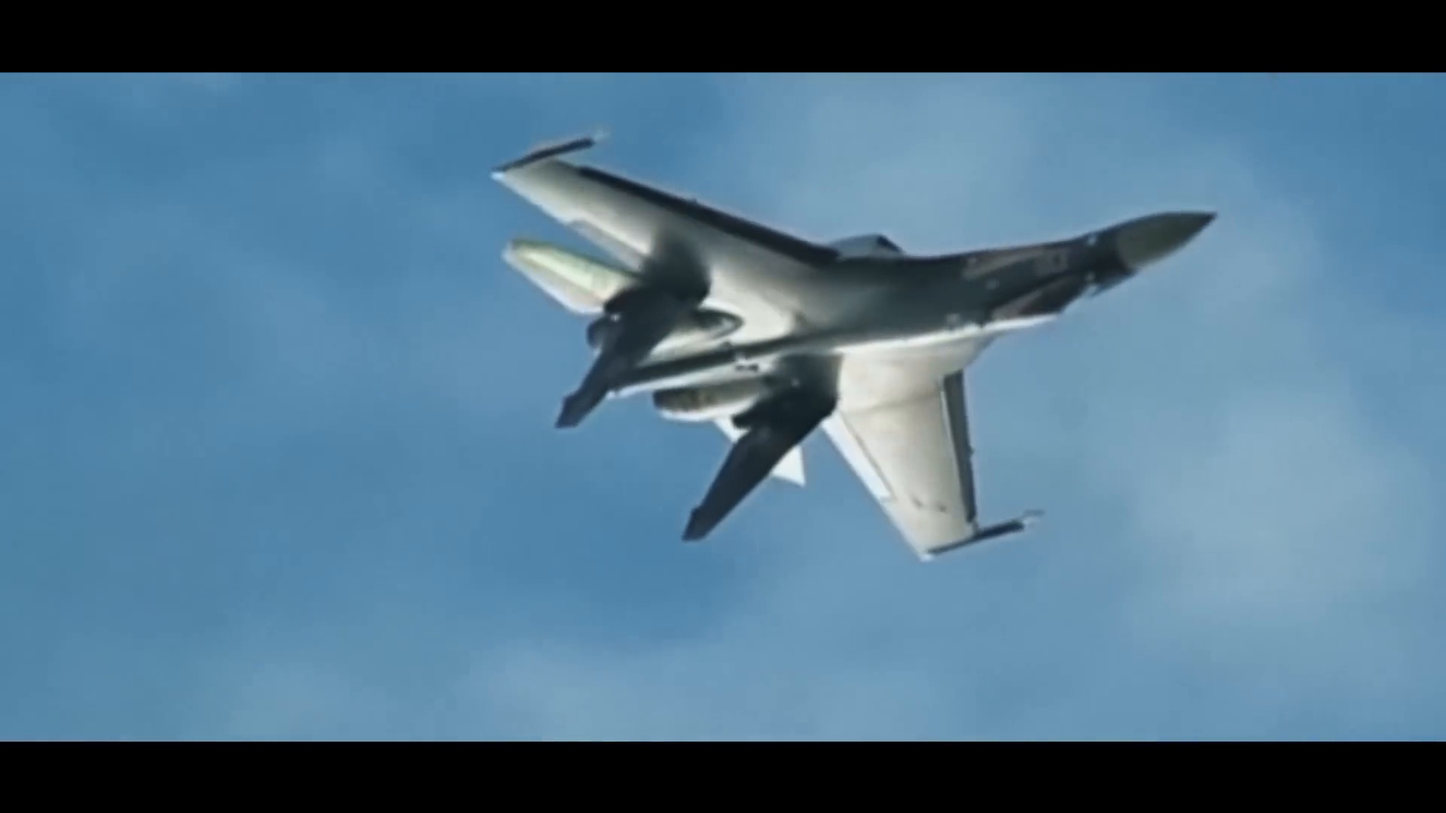Su35: (492, 133, 1218, 562)
